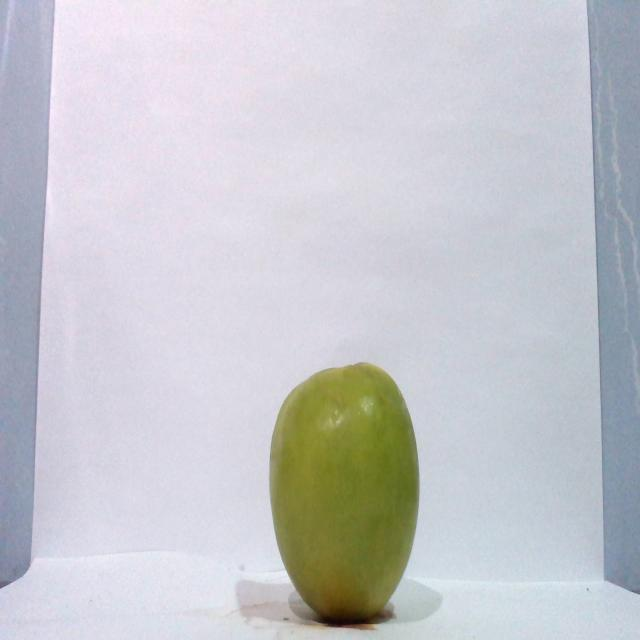Green: (267, 360, 421, 623)
